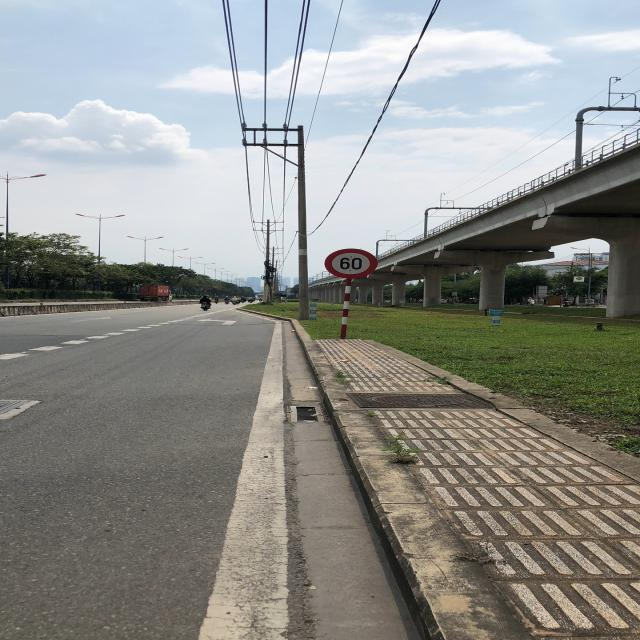Bien bao toc do toi da cho phep: (320, 247, 378, 280)
